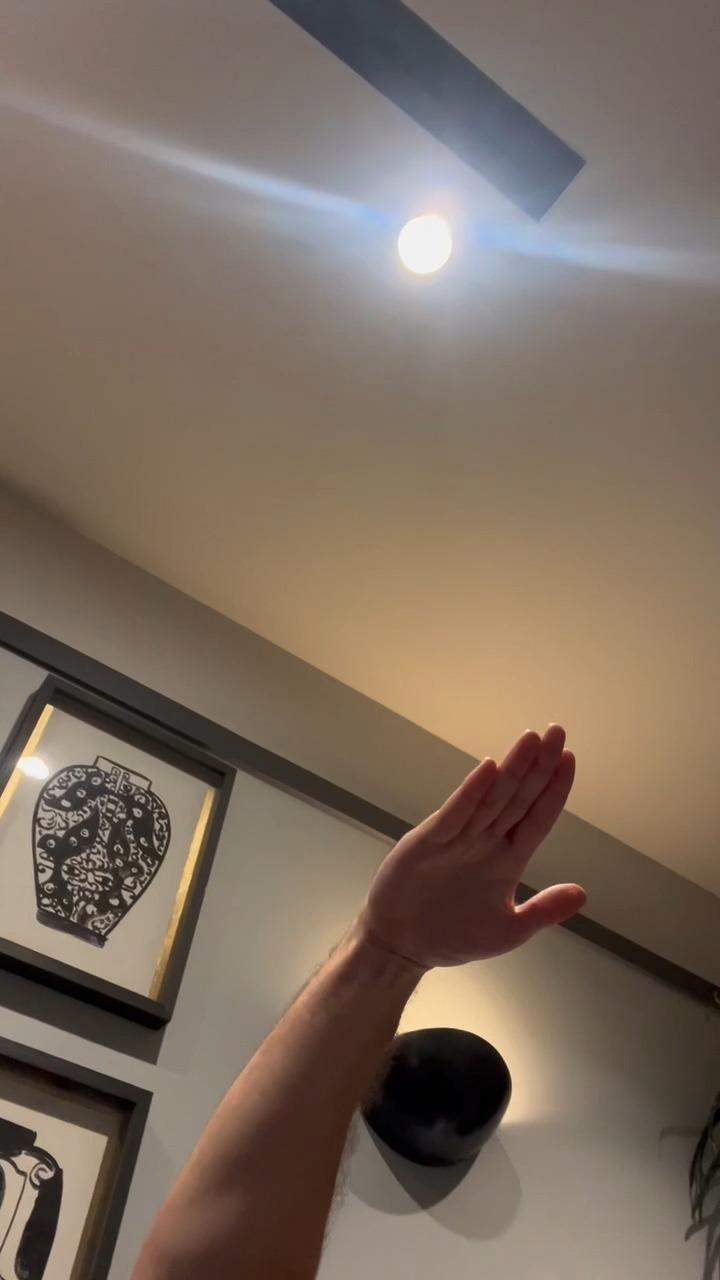Paper: (368, 726, 589, 968)
